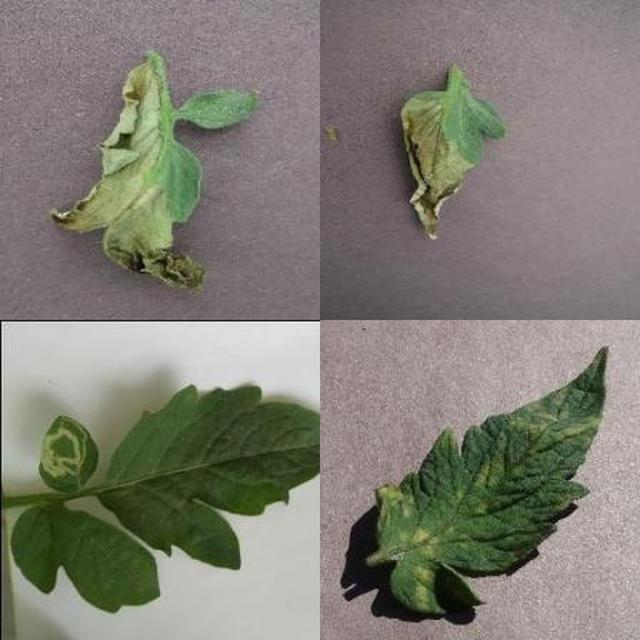Late Blight Leaf: (90, 110, 640, 640)
